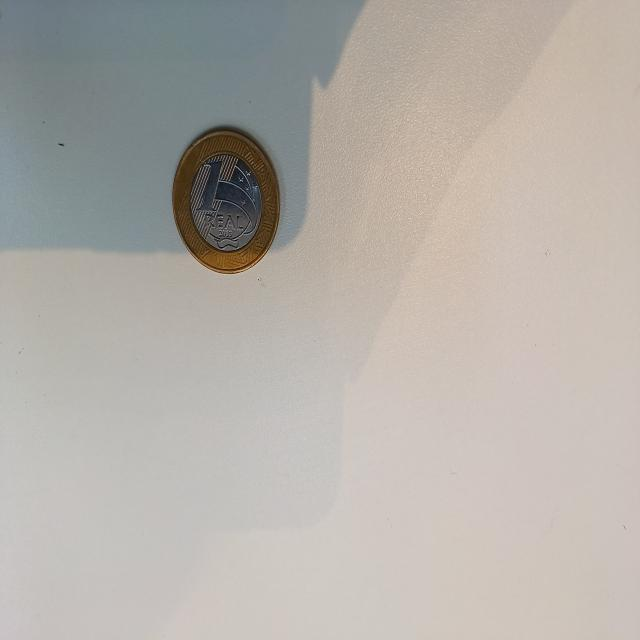1 real: (167, 123, 287, 276)
